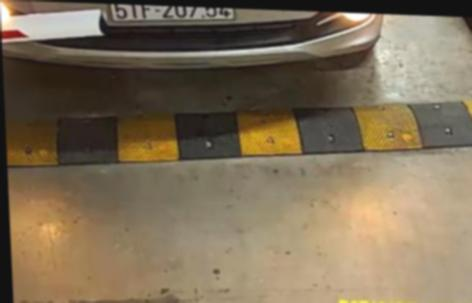License_Plate: (108, 5, 237, 31)
